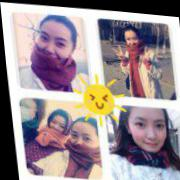NONE: (34, 25, 75, 68), (128, 106, 166, 151), (125, 31, 140, 48)
WRONG: (68, 124, 96, 156), (48, 115, 65, 137)
